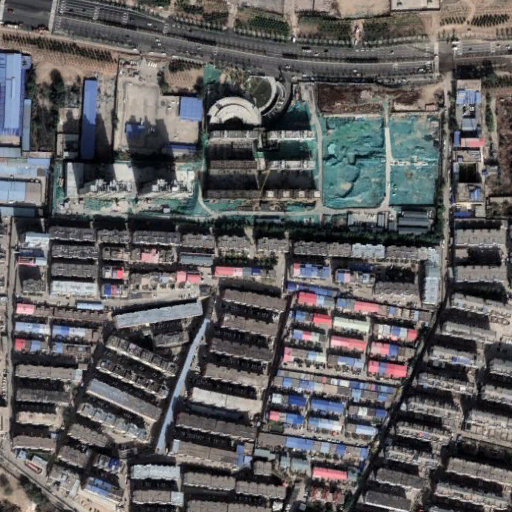cw: (320, 113, 437, 210)
